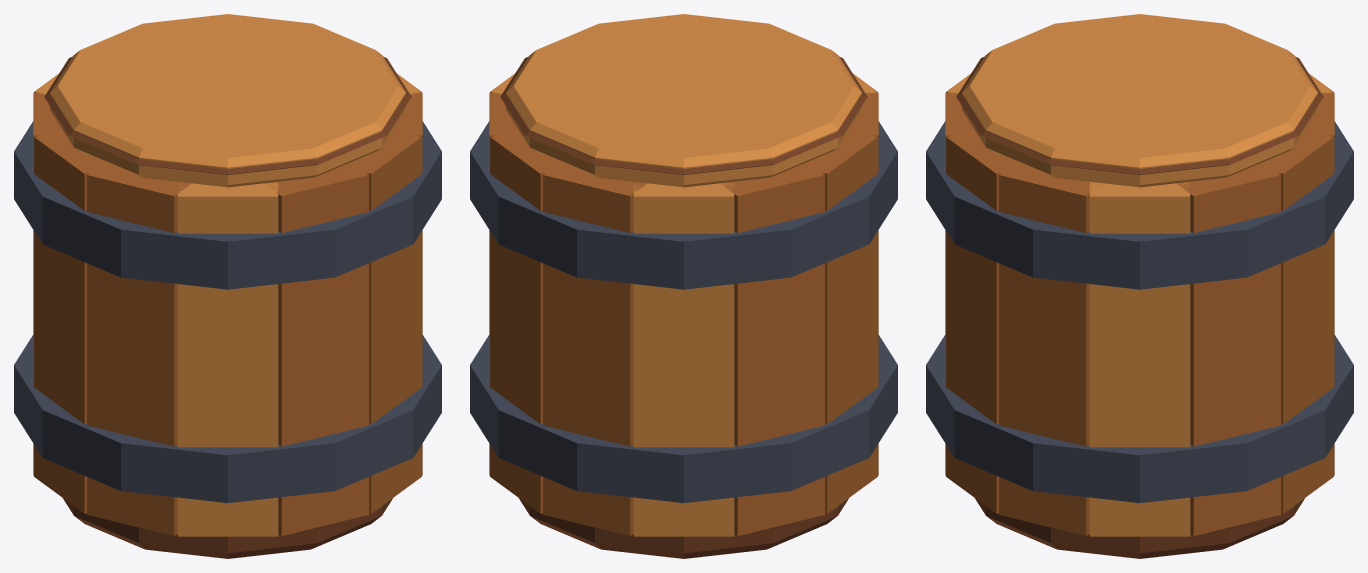
The model's file is Barrel.fbx.
The picture shows the model from 3 angles, left to right: view 1: azimuth 30°, elevation 25°; view 2: azimuth 150°, elevation 25°; view 3: azimuth 270°, elevation 25°; orthographic projection.
Parts seen in each view (by area): view 1: Barrel_Lid, Barrel_Stave_08, Barrel_IronBand_1, Barrel_IronBand_0, Barrel_Stave_07, Barrel_Stave_09, Barrel_Stave_10, Barrel_Stave_06, Barrel_Interior, Barrel_LidRim, Barrel_Stave_05, Barrel_Stave_11; view 2: Barrel_Lid, Barrel_Stave_04, Barrel_IronBand_1, Barrel_IronBand_0, Barrel_Stave_05, Barrel_Stave_03, Barrel_Stave_02, Barrel_Stave_06, Barrel_Interior, Barrel_LidRim, Barrel_Stave_01, Barrel_Stave_07; view 3: Barrel_Lid, Barrel_Stave_00, Barrel_IronBand_1, Barrel_IronBand_0, Barrel_Stave_01, Barrel_Stave_11, Barrel_Stave_10, Barrel_Stave_02, Barrel_Interior, Barrel_LidRim, Barrel_Stave_03, Barrel_Stave_09.
Part boxes in pixels (bbox=[...]): Barrel_Lid: bbox=[50, 14, 405, 187]; Barrel_Stave_08: bbox=[177, 182, 278, 536]; Barrel_IronBand_1: bbox=[14, 121, 441, 289]; Barrel_IronBand_0: bbox=[14, 335, 441, 503]; Barrel_Stave_07: bbox=[87, 162, 191, 535]; Barrel_Stave_09: bbox=[265, 162, 368, 535]; Barrel_Stave_10: bbox=[341, 130, 421, 513]; Barrel_Stave_06: bbox=[34, 130, 114, 513]; Barrel_Interior: bbox=[63, 498, 392, 558]; Barrel_LidRim: bbox=[44, 56, 411, 174]; Barrel_Stave_05: bbox=[33, 93, 64, 475]; Barrel_Stave_11: bbox=[391, 93, 422, 475]; Barrel_Lid: bbox=[506, 14, 861, 187]; Barrel_Stave_04: bbox=[633, 182, 734, 536]; Barrel_IronBand_1: bbox=[470, 121, 897, 289]; Barrel_IronBand_0: bbox=[470, 335, 897, 503]; Barrel_Stave_05: bbox=[720, 162, 824, 535]; Barrel_Stave_03: bbox=[543, 162, 647, 535]; Barrel_Stave_02: bbox=[490, 130, 570, 513]; Barrel_Stave_06: bbox=[799, 130, 877, 513]; Barrel_Interior: bbox=[519, 498, 848, 558]; Barrel_LidRim: bbox=[500, 56, 867, 174]; Barrel_Stave_01: bbox=[489, 93, 521, 475]; Barrel_Stave_07: bbox=[846, 93, 878, 475]; Barrel_Lid: bbox=[962, 14, 1317, 187]; Barrel_Stave_00: bbox=[1089, 181, 1190, 536]; Barrel_IronBand_1: bbox=[926, 121, 1353, 289]; Barrel_IronBand_0: bbox=[926, 335, 1353, 503]; Barrel_Stave_01: bbox=[1176, 162, 1280, 535]; Barrel_Stave_11: bbox=[999, 162, 1101, 535]; Barrel_Stave_10: bbox=[946, 130, 1026, 513]; Barrel_Stave_02: bbox=[1253, 133, 1333, 513]; Barrel_Interior: bbox=[975, 498, 1304, 558]; Barrel_LidRim: bbox=[956, 56, 1323, 174]; Barrel_Stave_03: bbox=[1302, 93, 1334, 475]; Barrel_Stave_09: bbox=[945, 93, 977, 475].
Bounding box in the file's own units: 0.89 × 0.925 × 0.89.
